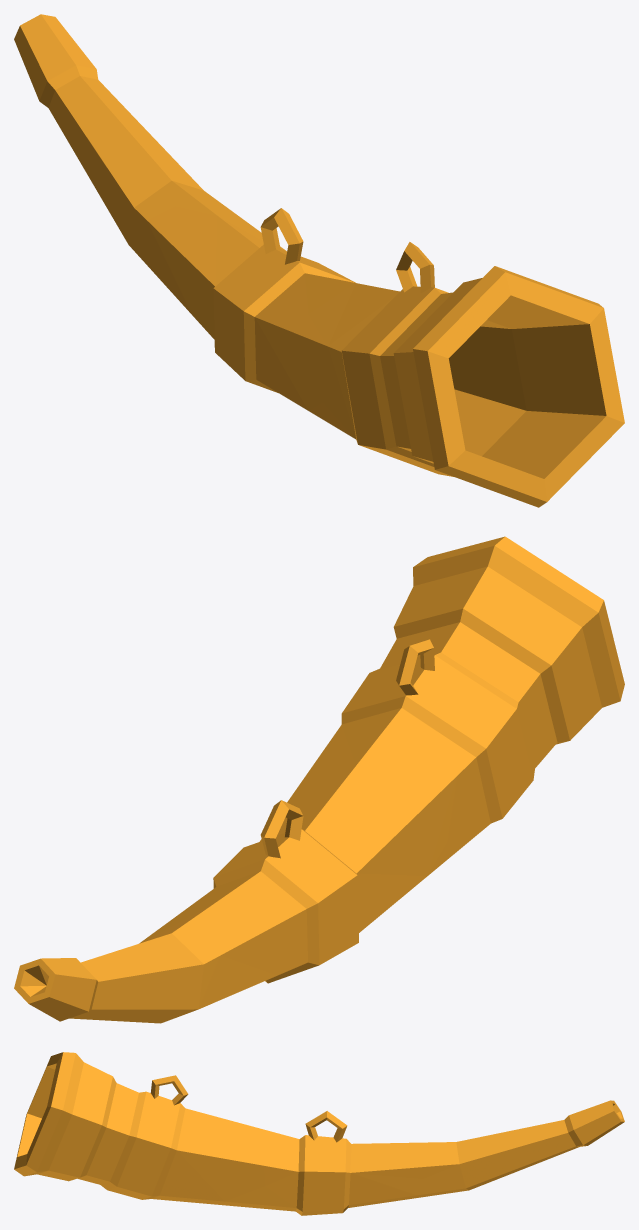
File: SM_Horn_Fantasy.fbx
The picture shows the model from 3 angles, top to bottom: view 1: azimuth 30°, elevation 25°; view 2: azimuth 150°, elevation 25°; view 3: azimuth 270°, elevation 25°; orthographic projection. The views are drawn at different scales.
Parts seen in each view (by area): view 1: horn-fantasy; view 2: horn-fantasy; view 3: horn-fantasy.
Part boxes in pixels (box(x1,y1,x2,y2)): horn-fantasy: box(14, 14, 624, 507); horn-fantasy: box(14, 536, 624, 1023); horn-fantasy: box(14, 1052, 624, 1215).
Bounding box in the file's own units: 0.0755 × 0.108 × 0.3651.
